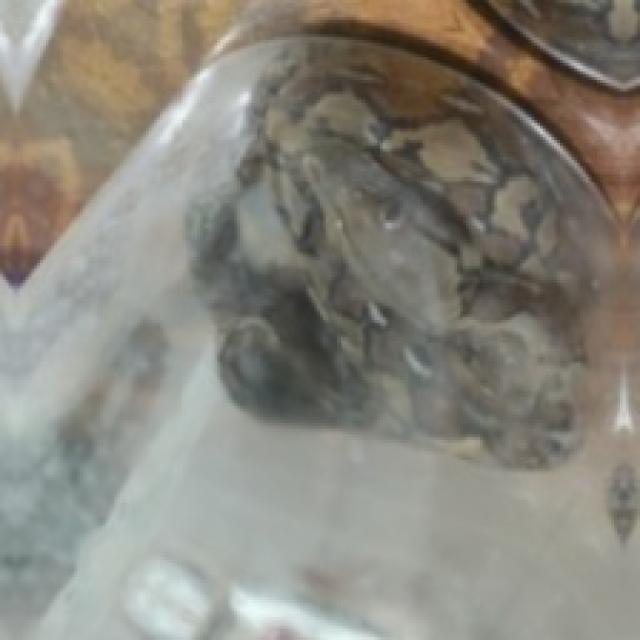reticulated python: (197, 40, 609, 463)
